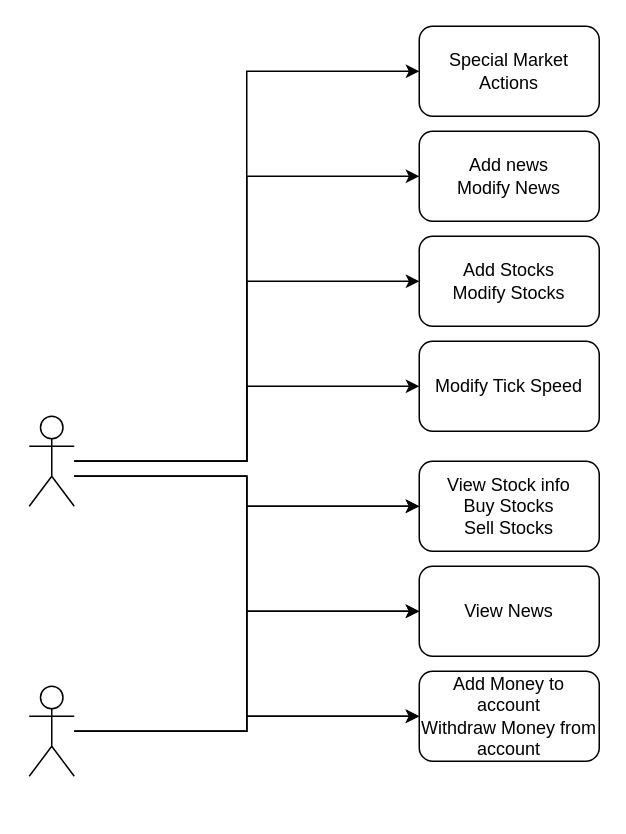
Image size: 626x834. Some labels were removed from this diagram. Each missing label, with the centre of its shape:
Admin: (51,460)
Úser: (51,730)
